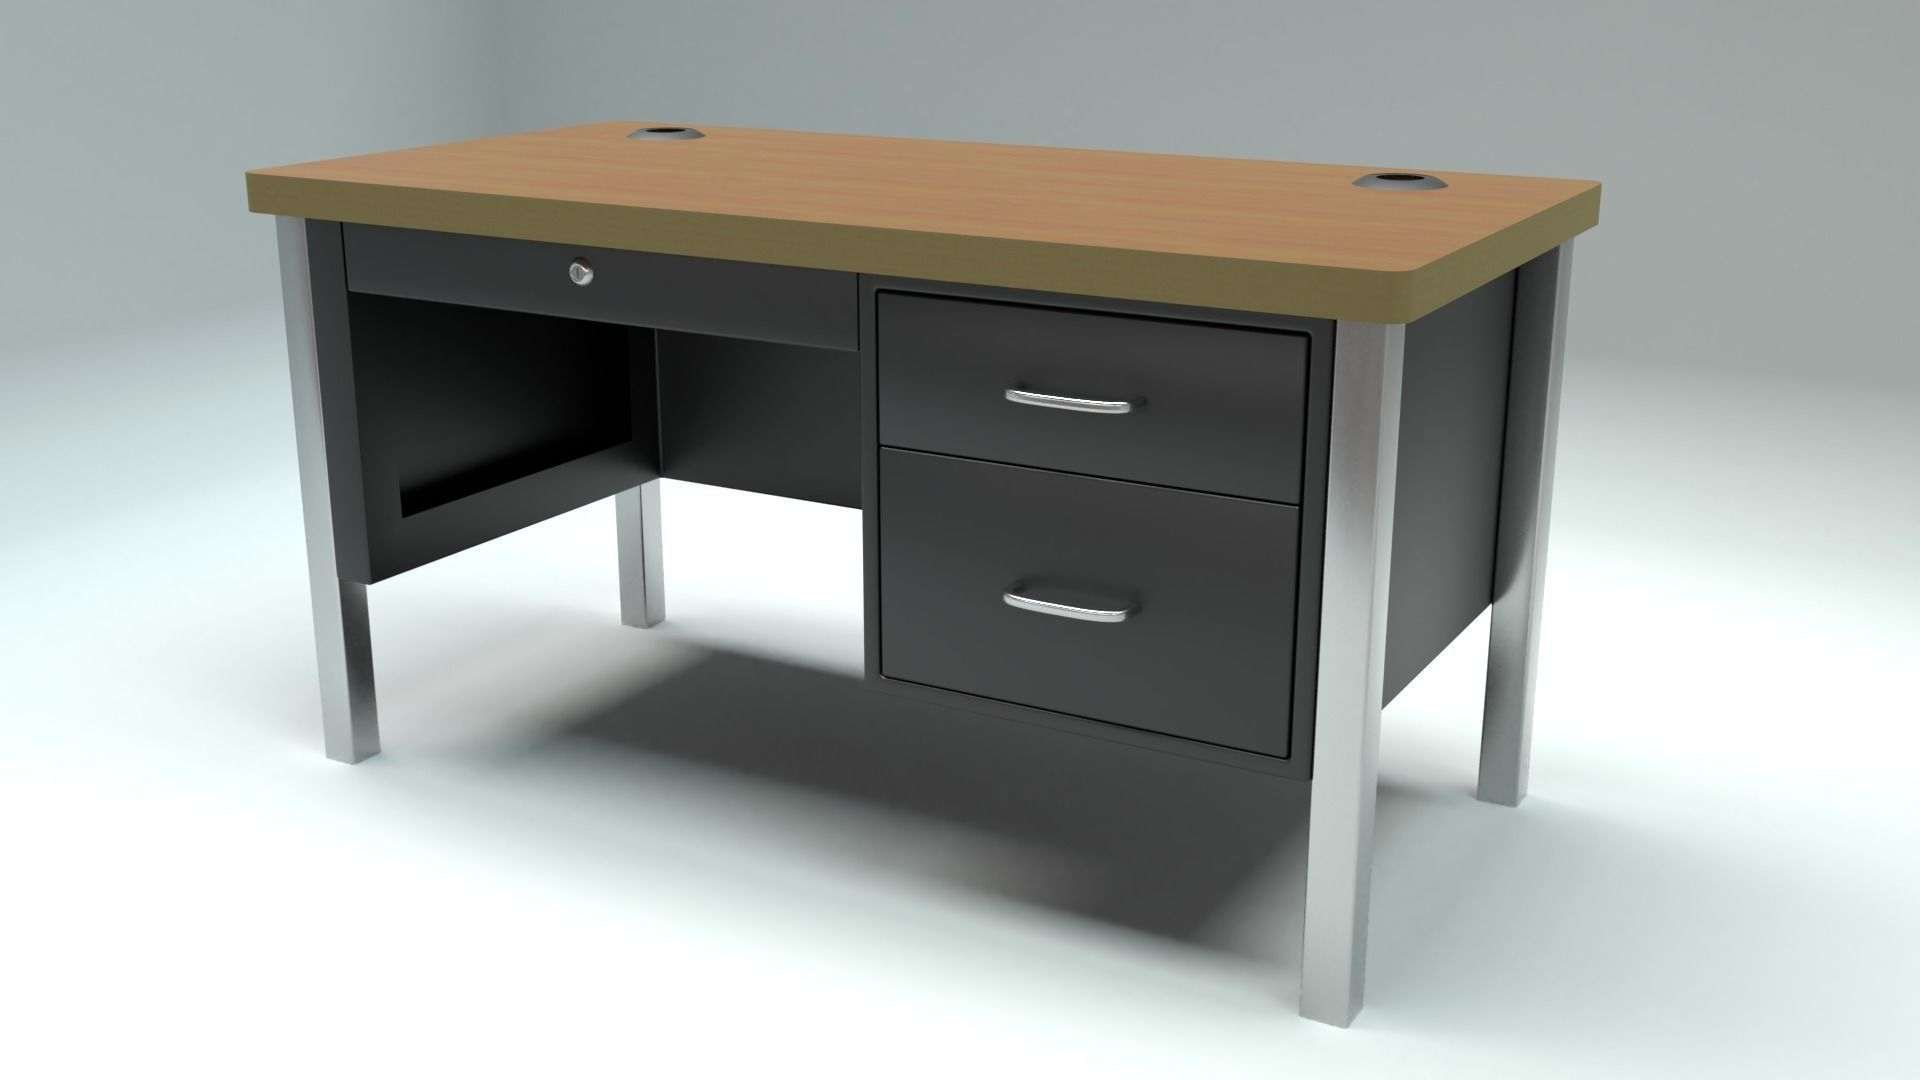desk_090.jpg: (208, 88, 1631, 1050)
